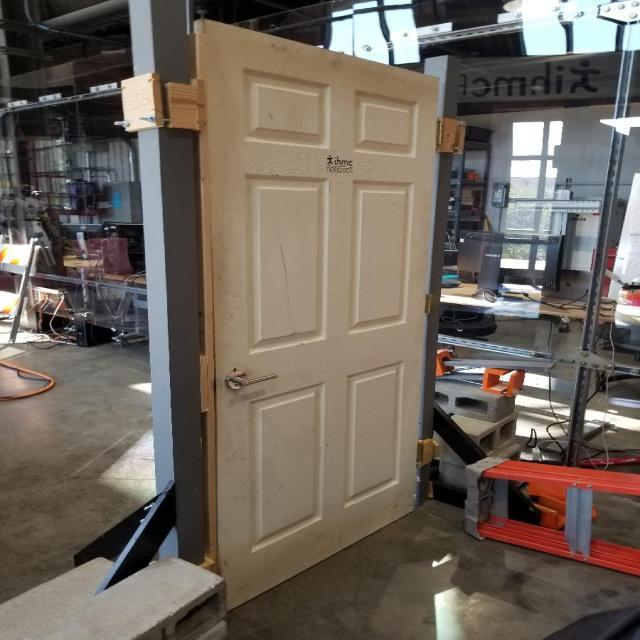door: (189, 18, 441, 620), (220, 367, 282, 394)
